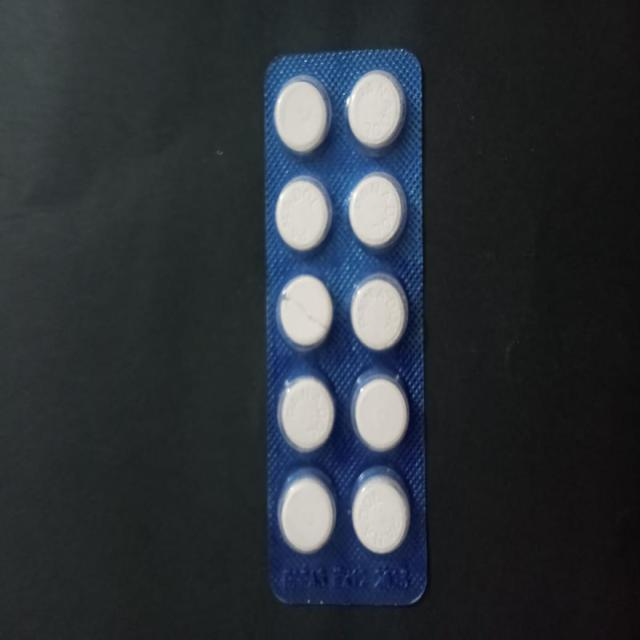defect: (273, 270, 337, 356)
